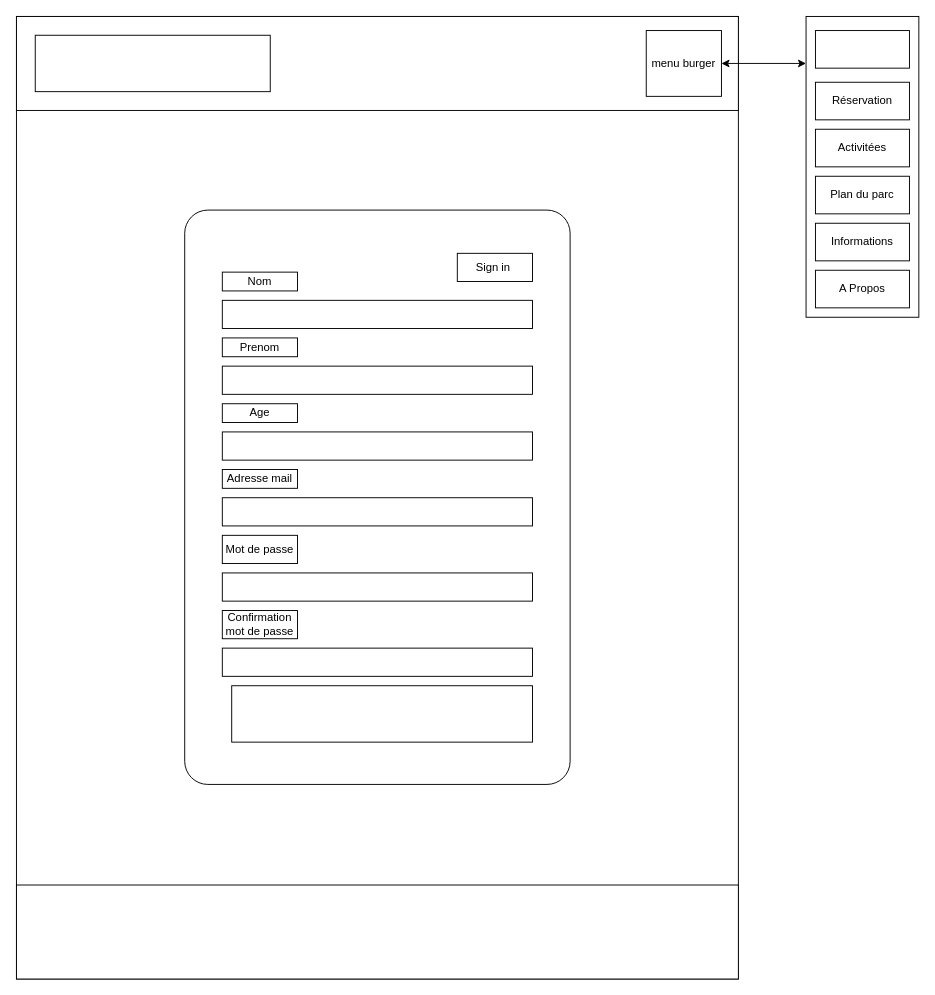
This 935x995 diagram has some shape labels left out. Each missing label, with the centre of its shape:
Connexion/ Mon Compte: the point at 862,49
Créer son compte: the point at 382,713
Informations légales / Contact / Reseaux sociaux / Lien utile: the point at 377,931
LOGO: the point at 152,63
